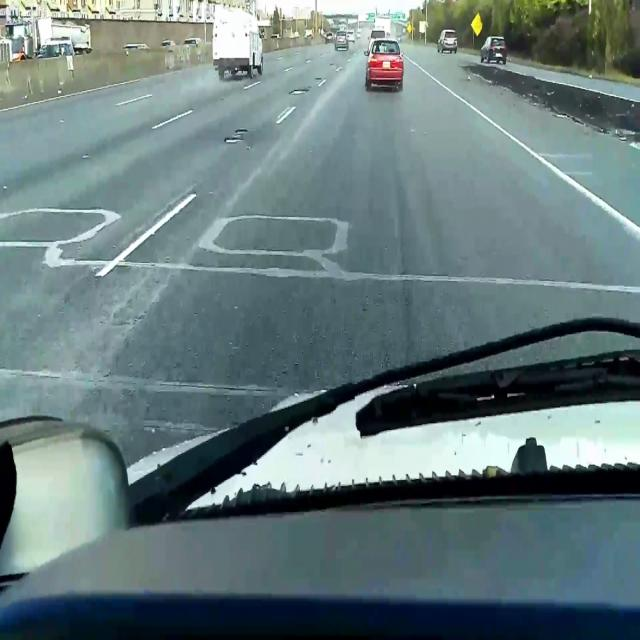Pothole: (223, 138, 243, 144), (290, 88, 307, 95), (236, 128, 248, 134), (328, 62, 335, 66), (314, 77, 322, 80)
